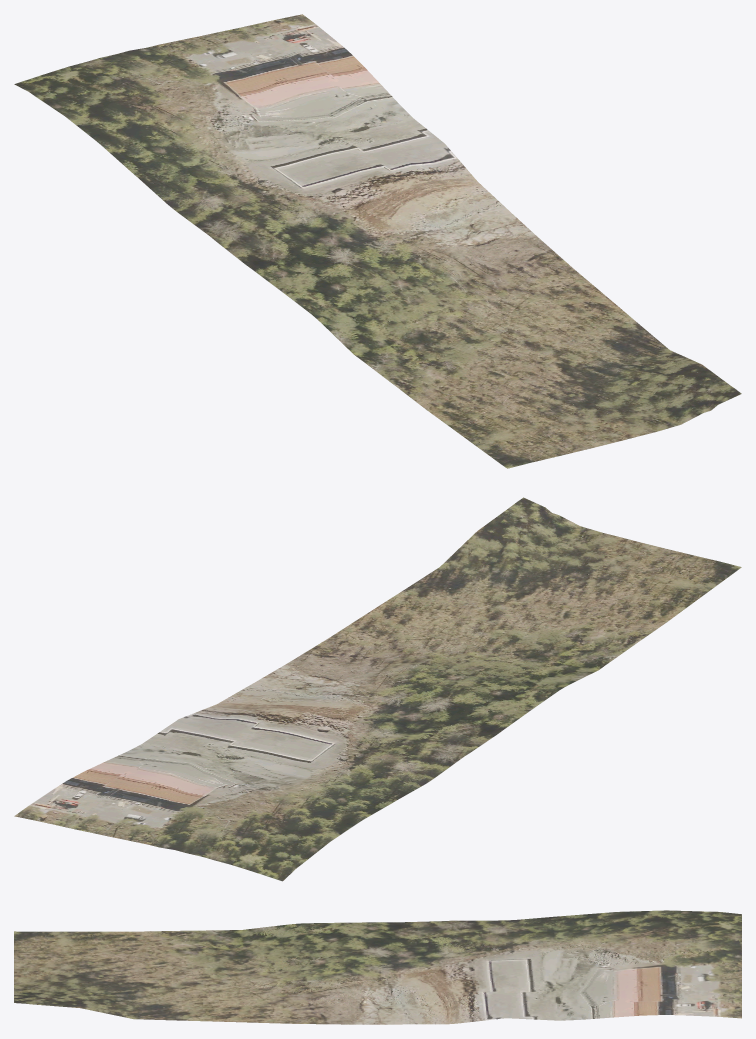
The model's file is CM_Terrain_24493940_6814469.fbx.
3 renders of one model, top to bottom at view 1: azimuth 30°, elevation 25°; view 2: azimuth 150°, elevation 25°; view 3: azimuth 270°, elevation 25°, orthographic. The views are drawn at different scales.
Parts seen in each view (by area): view 1: CM_Terrain_24493940_6814469_LOD0; view 2: CM_Terrain_24493940_6814469_LOD0; view 3: CM_Terrain_24493940_6814469_LOD0.
Part boxes in pixels (<box>): CM_Terrain_24493940_6814469_LOD0: <box>14,14,741,468</box>; CM_Terrain_24493940_6814469_LOD0: <box>14,497,741,881</box>; CM_Terrain_24493940_6814469_LOD0: <box>14,910,741,1024</box>.
Size of what is drawn, in the model's own units: 69.21 by 7.49 by 205.
